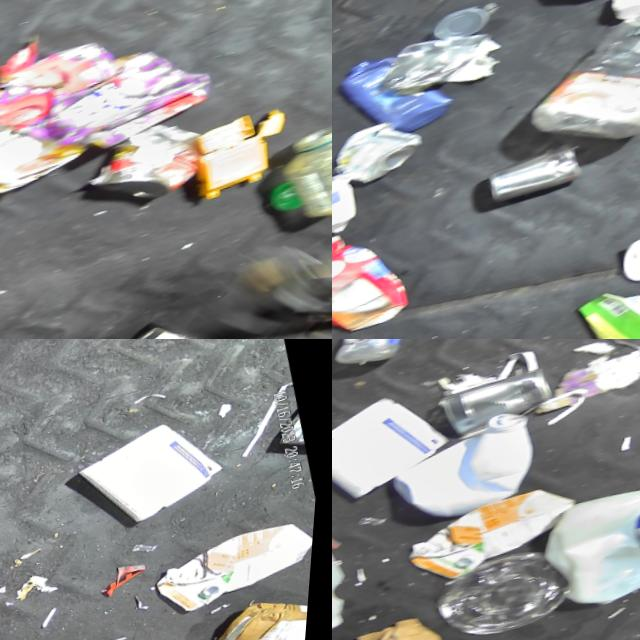can: (84, 116, 218, 221), (434, 363, 564, 449), (332, 104, 439, 194), (483, 145, 597, 214), (100, 319, 212, 339)
milk_jug: (376, 402, 562, 541), (533, 471, 640, 624)
non_white_jug: (511, 0, 640, 168), (154, 518, 319, 625)
plastic_bottle: (332, 339, 456, 374)
